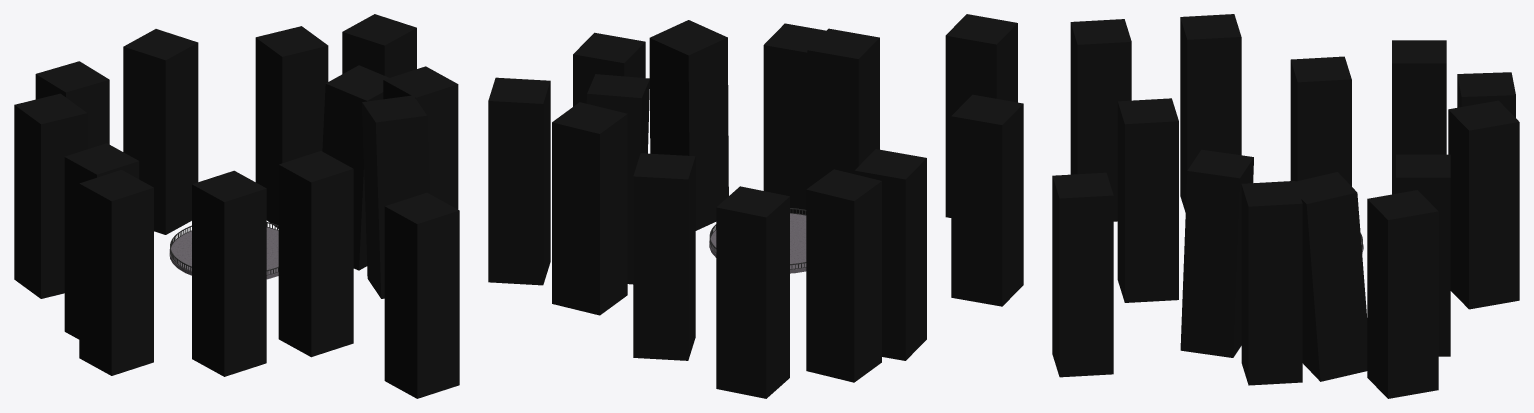
File: platformtowers.fbx
3 renders of one model, left to right at view 1: azimuth 30°, elevation 25°; view 2: azimuth 150°, elevation 25°; view 3: azimuth 270°, elevation 25°, orthographic. The views are drawn at different scales.
Parts seen in each view (by area): view 1: Cube.008, Cube.009, Cube.011, Cube.010, Cube.003, Cube.002, Cube, Cube.006, Cube.004, Cube.007, Cube.012, Cube.005 (+3 smaller); view 2: Cube, Cube.002, Cube.001, Cube.011, Cube.005, Cube.003, Cube.006, Cube.009, Cube.012, Cube.008, Cube.010, Cube.004 (+2 smaller); view 3: Cube.005, Cube.003, Cube.008, Cube.009, Cube.007, Cube.004, Cube.006, Cube.011, Cube.010, Cube.012, Cube.002, Cube (+1 smaller).
Part boxes in pixels (<box>): Cube.008: <box>384,192,459,398</box>; Cube.009: <box>278,151,353,357</box>; Cube.011: <box>79,170,153,375</box>; Cube.010: <box>192,170,266,376</box>; Cube.003: <box>123,29,198,234</box>; Cube.002: <box>14,93,87,298</box>; Cube: <box>255,26,328,228</box>; Cube.006: <box>362,95,429,298</box>; Cube.004: <box>322,65,388,270</box>; Cube.007: <box>383,66,458,209</box>; Cube.012: <box>64,143,139,339</box>; Cube.005: <box>342,14,416,77</box>; Cube: <box>552,102,627,315</box>; Cube.002: <box>806,169,881,382</box>; Cube.001: <box>716,186,789,398</box>; Cube.011: <box>951,94,1023,306</box>; Cube.005: <box>488,77,550,285</box>; Cube.003: <box>633,153,695,360</box>; Cube.006: <box>649,20,728,230</box>; Cube.009: <box>807,28,879,188</box>; Cube.012: <box>854,149,926,360</box>; Cube.008: <box>763,23,825,214</box>; Cube.010: <box>945,14,1017,217</box>; Cube.004: <box>586,74,649,284</box>; Cube.005: <box>1367,190,1438,398</box>; Cube.003: <box>1448,100,1519,309</box>; Cube.008: <box>1052,172,1113,377</box>; Cube.009: <box>1117,98,1178,302</box>; Cube.007: <box>1241,181,1302,385</box>; Cube.004: <box>1296,172,1367,381</box>; Cube.006: <box>1180,149,1253,357</box>; Cube.011: <box>1180,14,1241,212</box>; Cube.010: <box>1070,19,1131,221</box>; Cube.012: <box>1290,56,1351,186</box>; Cube.002: <box>1392,40,1446,194</box>; Cube: <box>1396,154,1450,356</box>.
Bounding box in the file's own units: 22939 × 23961 × 13042.
3 materials, 1 textured.
